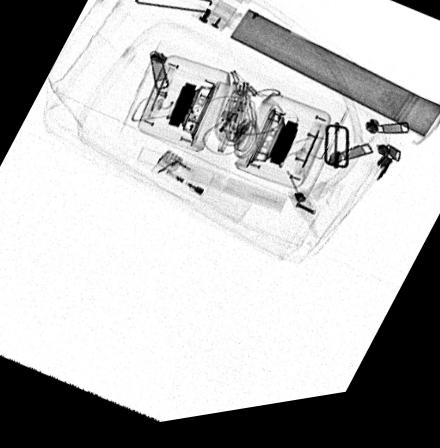Lighter: (149, 154, 254, 233)
